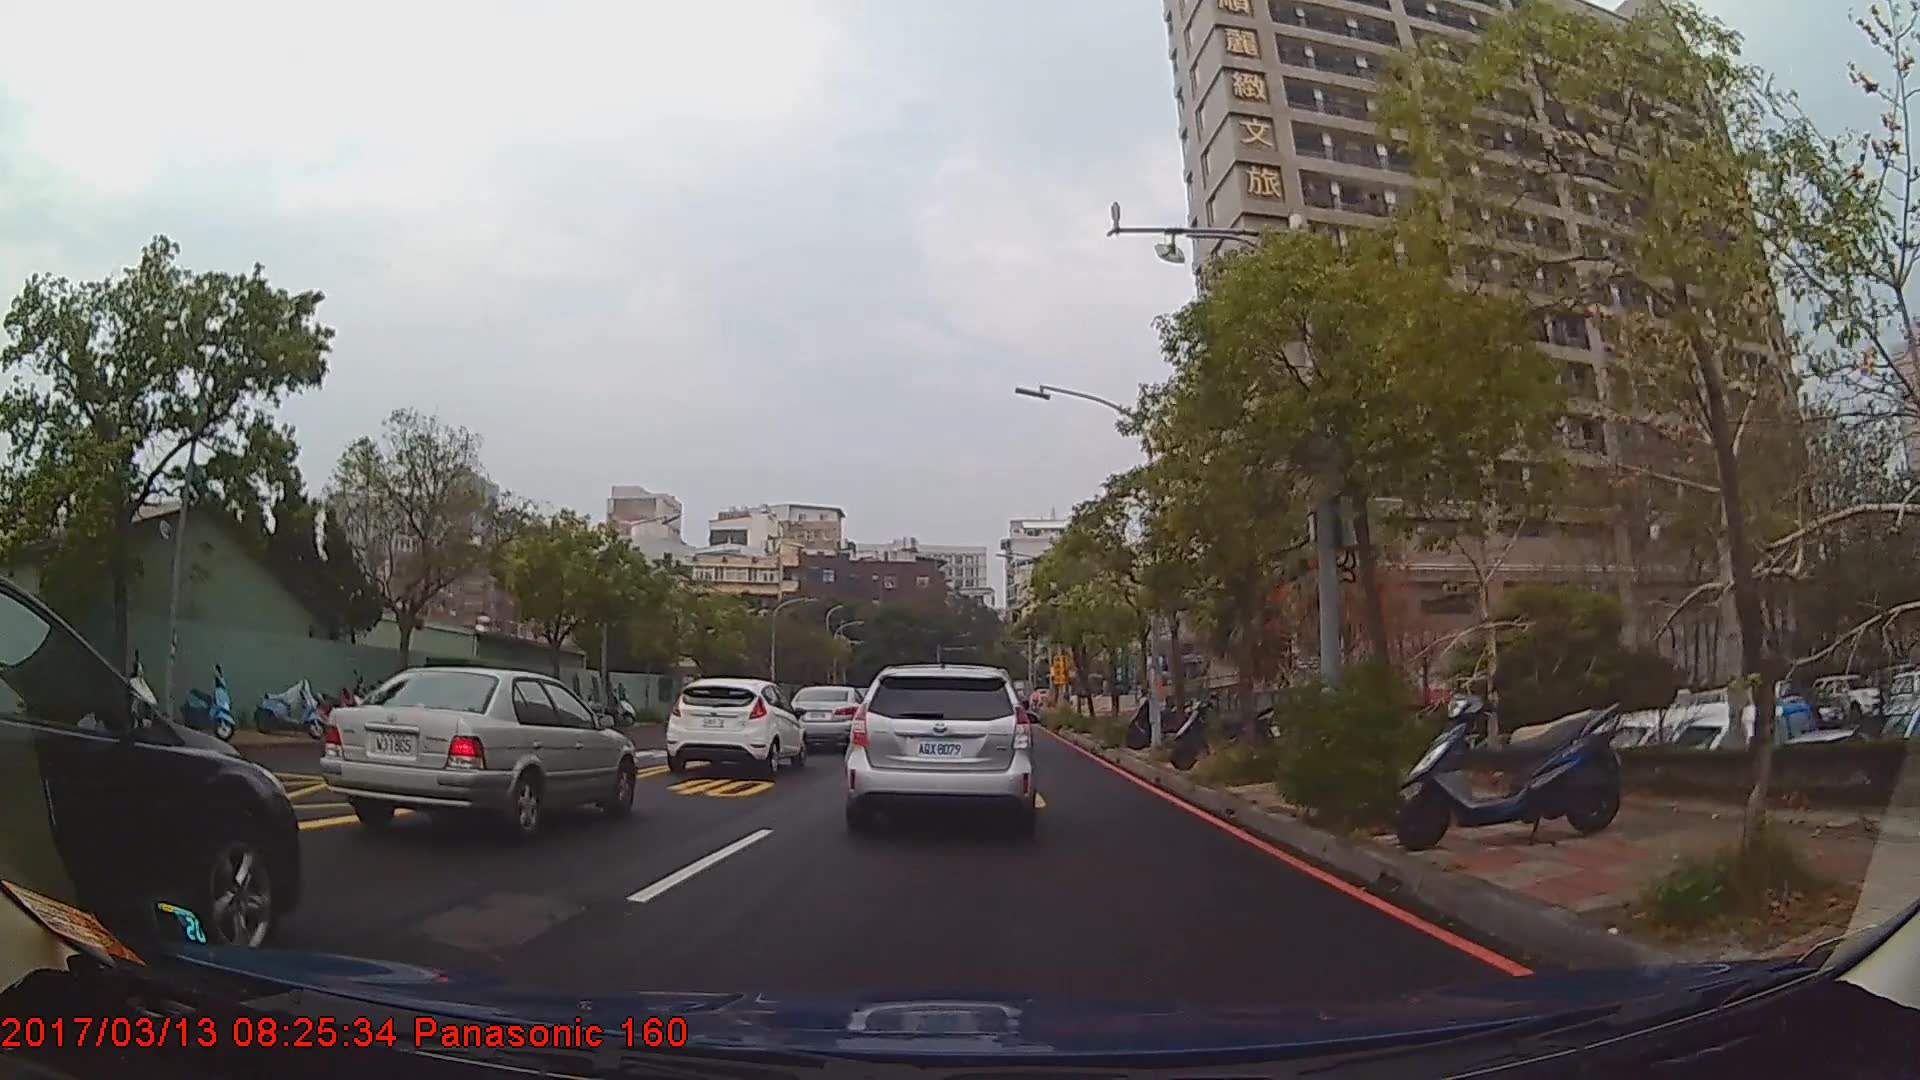vehicle: (0, 578, 301, 968), (318, 667, 637, 843), (843, 665, 1033, 828), (665, 676, 804, 775), (786, 684, 870, 746)
